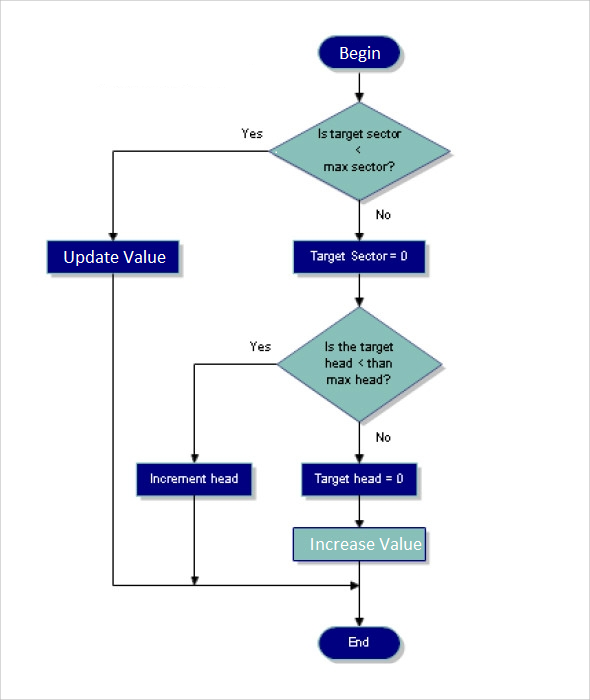arrow: (109, 276, 362, 591), (106, 146, 271, 240), (190, 360, 276, 465), (186, 493, 200, 587), (352, 421, 368, 462), (356, 563, 365, 627), (354, 201, 366, 242), (353, 271, 365, 306), (354, 495, 365, 527), (355, 69, 365, 104)
decision: (277, 306, 442, 423), (270, 103, 453, 201)
process: (290, 524, 432, 565), (44, 237, 183, 278), (291, 238, 429, 277), (135, 459, 252, 497), (299, 462, 422, 496)
terminator: (316, 34, 405, 74), (316, 626, 408, 662)
text: (314, 124, 403, 178), (322, 338, 395, 388), (309, 533, 419, 557), (61, 246, 171, 269), (309, 246, 413, 267), (148, 469, 238, 492), (312, 471, 409, 488), (338, 43, 386, 62), (237, 126, 266, 142), (345, 634, 372, 651), (247, 338, 274, 354), (372, 207, 393, 223), (374, 429, 392, 445)
